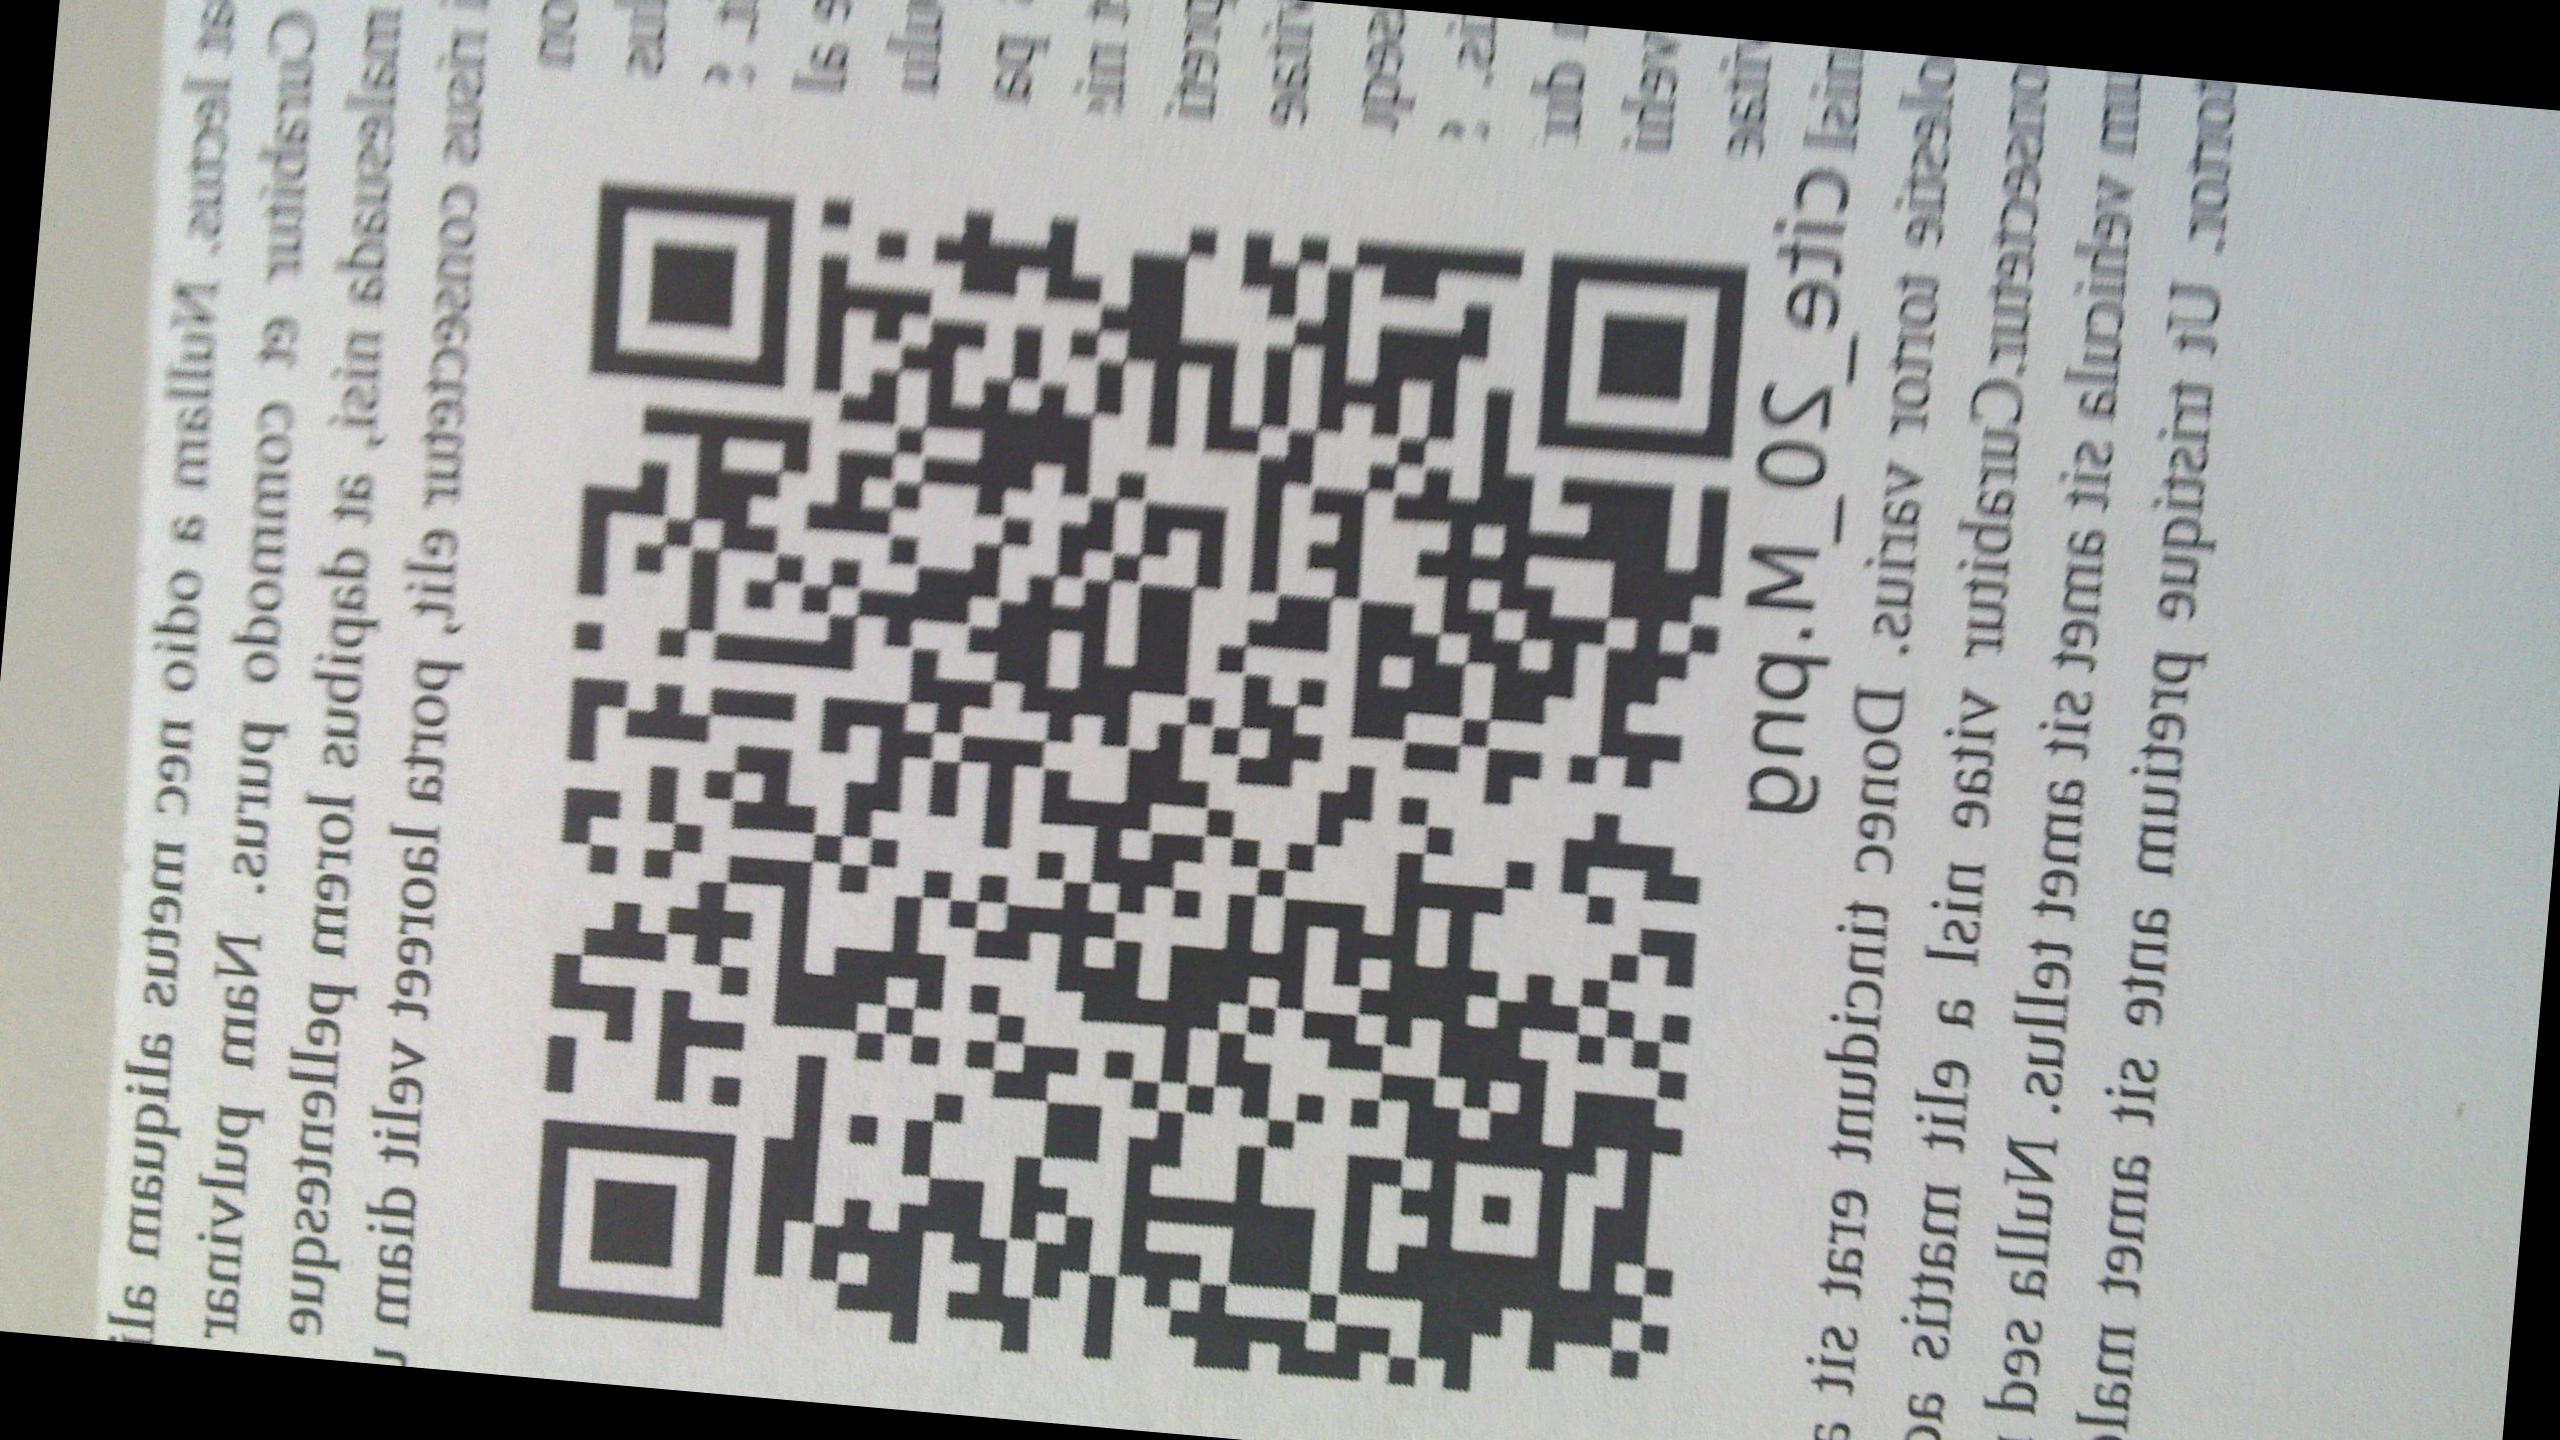QR: (533, 172, 1748, 1405)
